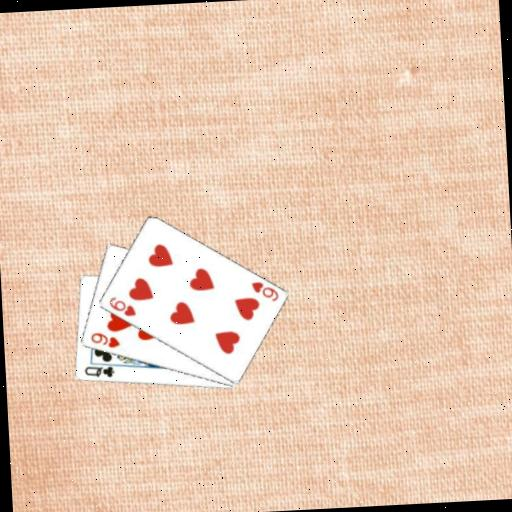6H: (248, 277, 280, 304), (106, 293, 138, 319)
9H: (87, 329, 122, 351)
QC: (81, 363, 116, 381)
